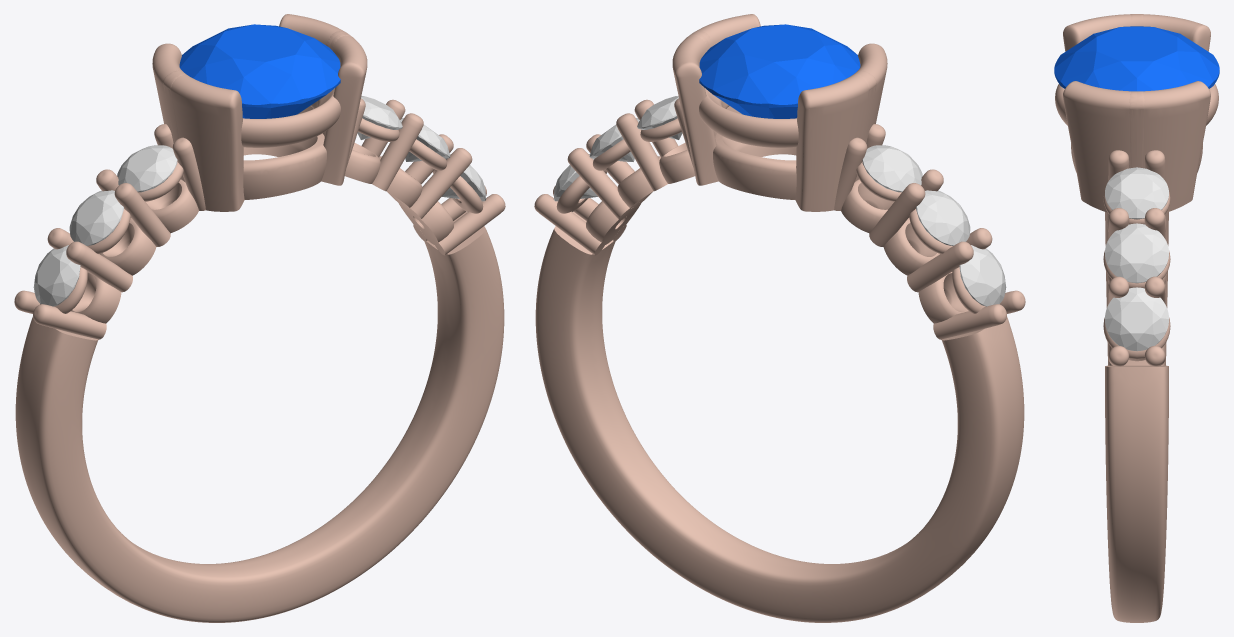
File: bluesapphire-round-rosegold-halfmoonbezel-straighttaperedband-3stone.glb
3 views of the same model, side by side, from view 1: azimuth 30°, elevation 25°; view 2: azimuth 150°, elevation 25°; view 3: azimuth 270°, elevation 25° (orthographic). The views are drawn at different scales.
Parts seen in each view (by area): view 1: metal, stone, side.001, side, side.002, side.003, side.004; view 2: metal, stone, side.001, side, side.002, side.003, side.004; view 3: metal, stone, side.005, side.004, side.003.
Boxes of the visible parts, x1,y1,x2,y2 form: metal: [14, 14, 505, 622]; stone: [179, 24, 340, 118]; side.001: [69, 190, 123, 245]; side: [117, 145, 177, 192]; side.002: [33, 245, 80, 306]; side.003: [357, 96, 402, 139]; side.004: [400, 118, 450, 161]; metal: [534, 14, 1025, 622]; stone: [699, 24, 860, 118]; side.001: [916, 190, 970, 245]; side: [862, 145, 922, 192]; side.002: [959, 245, 1006, 306]; side.003: [637, 96, 682, 139]; side.004: [589, 118, 639, 161]; metal: [1055, 14, 1218, 622]; stone: [1054, 26, 1219, 91]; side.005: [1105, 287, 1168, 351]; side.004: [1105, 223, 1168, 283]; side.003: [1105, 167, 1168, 219].
Bounding box in the file's own units: 20.58 × 23.82 × 6.44.
